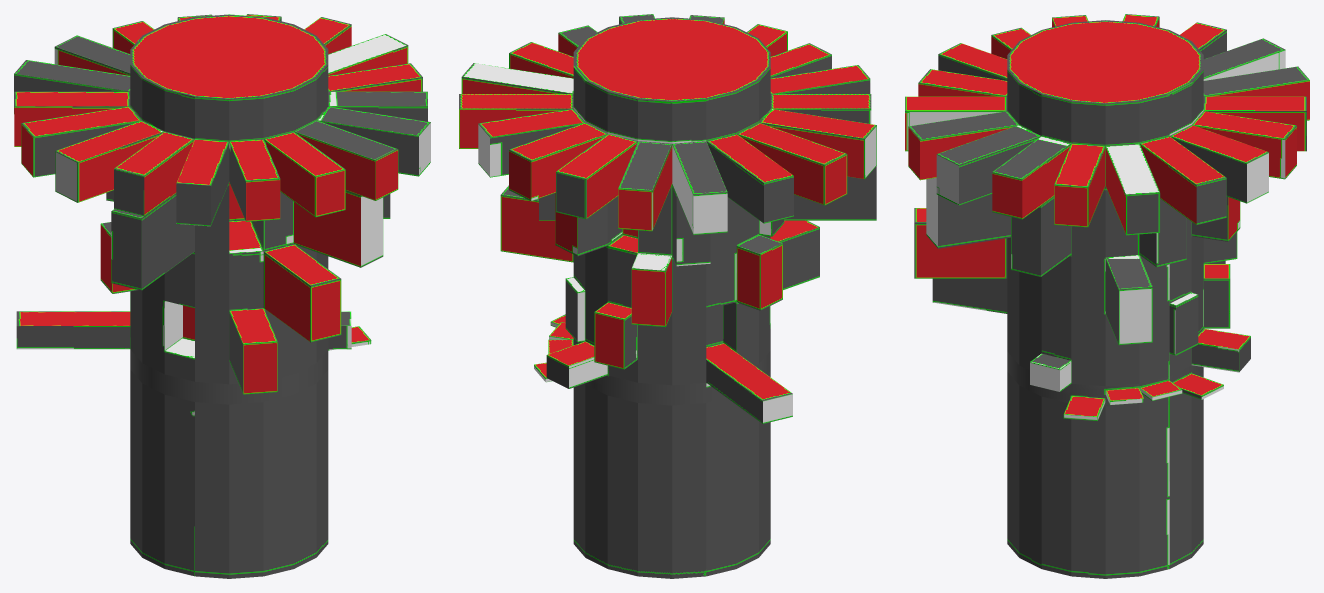
File: tower.FBX
The picture shows the model from 3 angles, left to right: view 1: azimuth 30°, elevation 25°; view 2: azimuth 150°, elevation 25°; view 3: azimuth 270°, elevation 25°; orthographic projection.
Visible parts, largest first — view 1: Cylinder001; view 2: Cylinder001; view 3: Cylinder001.
Part boxes in pixels (<box>): Cylinder001: <box>14,14,430,578</box>; Cylinder001: <box>459,14,876,578</box>; Cylinder001: <box>905,14,1309,578</box>.
Bounding box in the file's own units: 61.92 × 75.61 × 58.47.
Materials: 1 (1 with a texture image).
